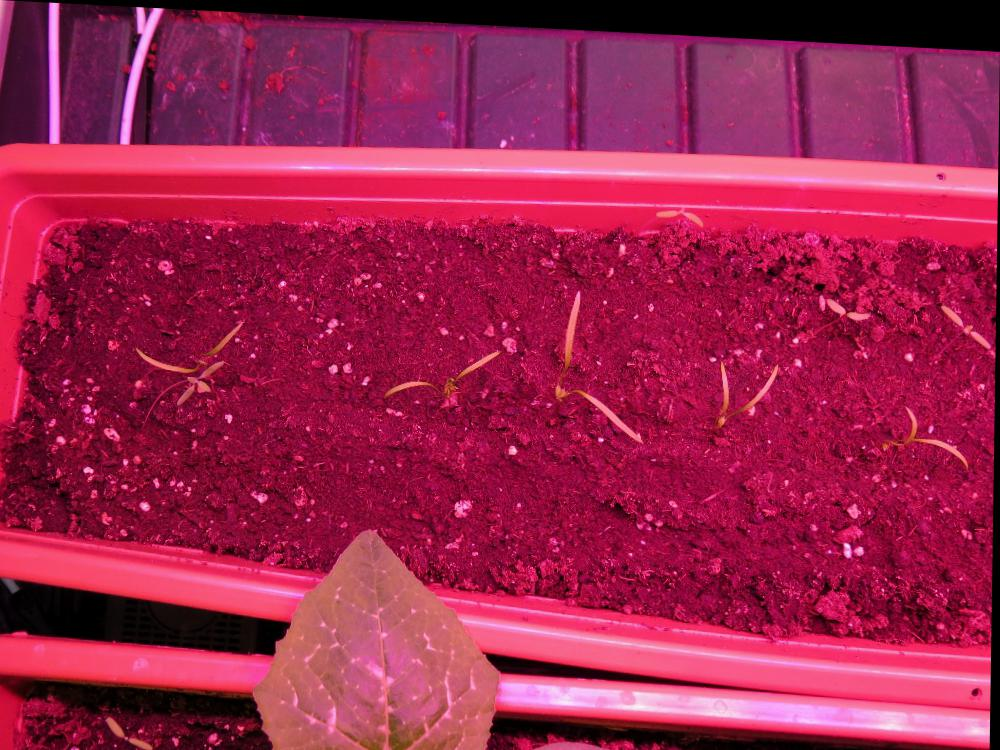crop: (552, 278, 646, 437), (382, 338, 503, 400), (878, 391, 970, 461), (713, 349, 780, 426)
weed: (939, 290, 993, 338), (824, 286, 871, 311)
